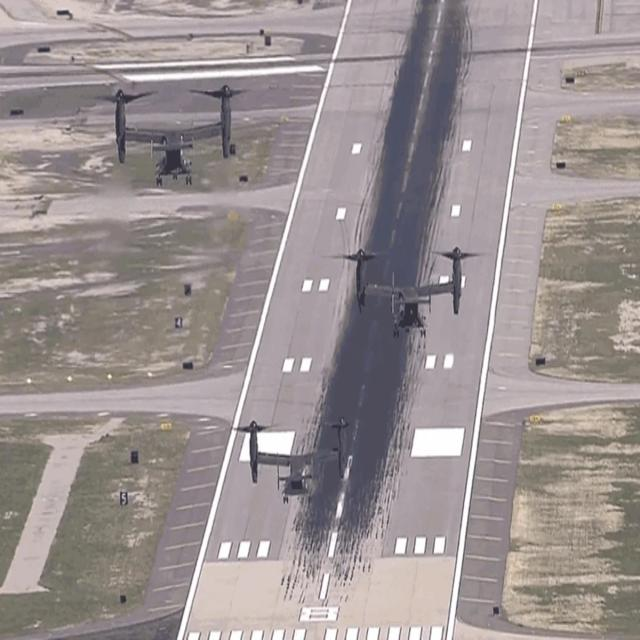MIL_Plane: (75, 83, 255, 186), (320, 245, 492, 338), (224, 412, 365, 504)
